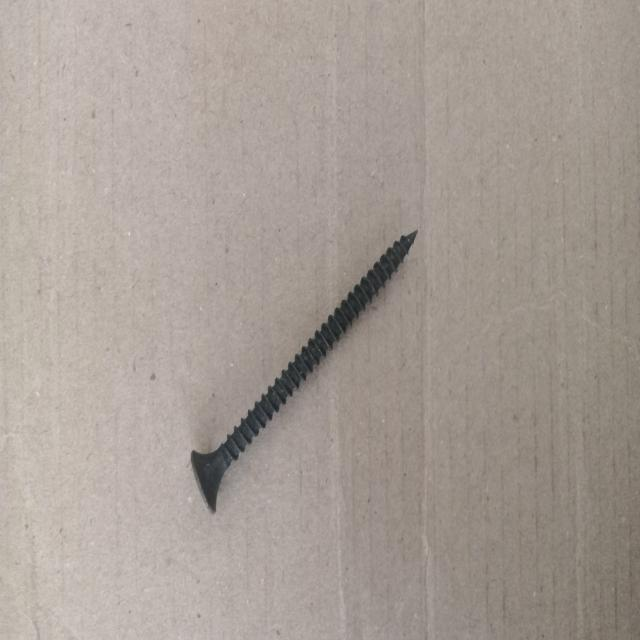screw: (188, 227, 419, 517)
